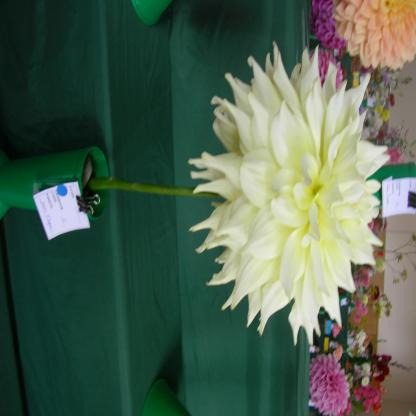vase: (0, 147, 111, 220)
